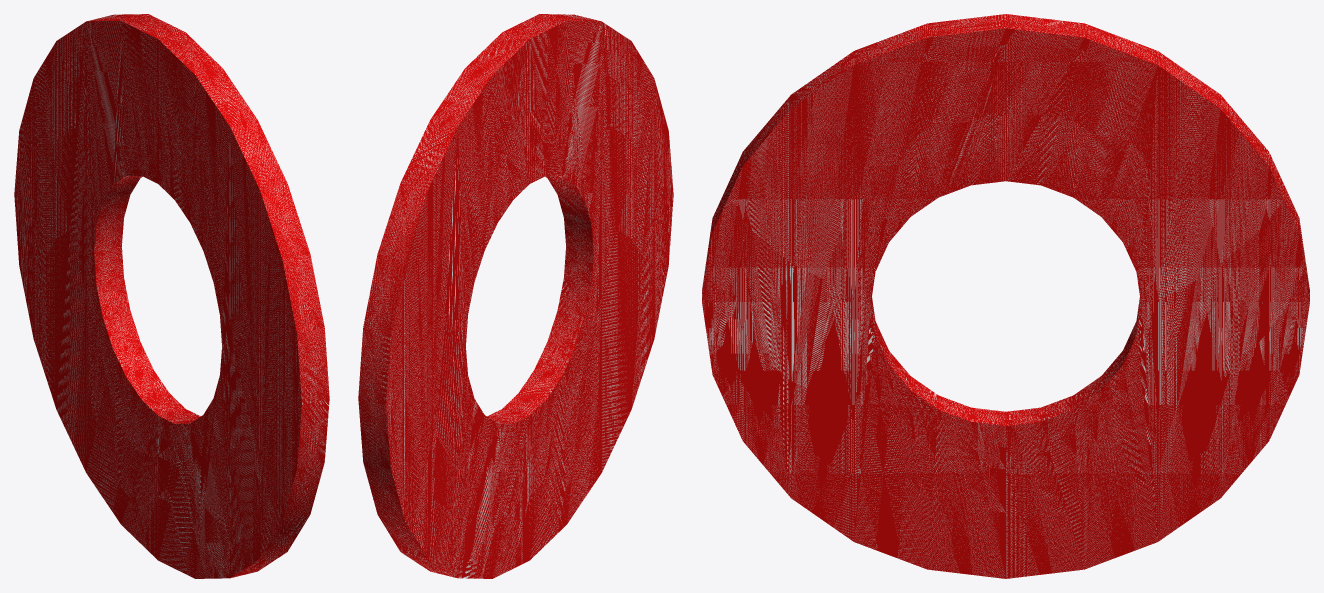
File: original-13.obj
3 views of the same model, side by side, from view 1: azimuth 30°, elevation 25°; view 2: azimuth 150°, elevation 25°; view 3: azimuth 270°, elevation 25° (orthographic). The views are drawn at different scales.
Parts seen in each view (by area): view 1: Washer_M8_6/Washer_M8_1_2/mesh5/mesh5-geometry#mesh5-geometry; view 2: Washer_M8_6/Washer_M8_1_2/mesh5/mesh5-geometry#mesh5-geometry; view 3: Washer_M8_6/Washer_M8_1_2/mesh5/mesh5-geometry#mesh5-geometry.
Boxes of the visible parts, bbox=[...] form: Washer_M8_6/Washer_M8_1_2/mesh5/mesh5-geometry#mesh5-geometry: bbox=[14, 14, 329, 578]; Washer_M8_6/Washer_M8_1_2/mesh5/mesh5-geometry#mesh5-geometry: bbox=[358, 14, 673, 578]; Washer_M8_6/Washer_M8_1_2/mesh5/mesh5-geometry#mesh5-geometry: bbox=[702, 14, 1309, 578].
Size of the model in its own units: 0.00241 by 0.0433 by 0.0433.
